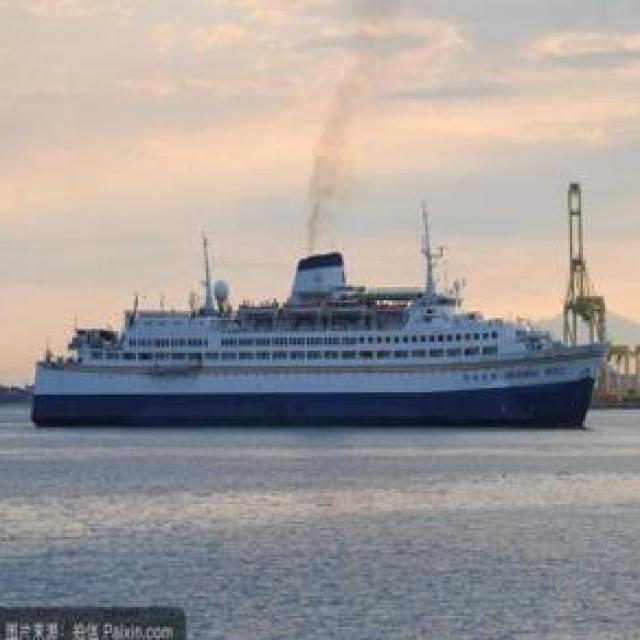passenger ship: (24, 247, 601, 429)
